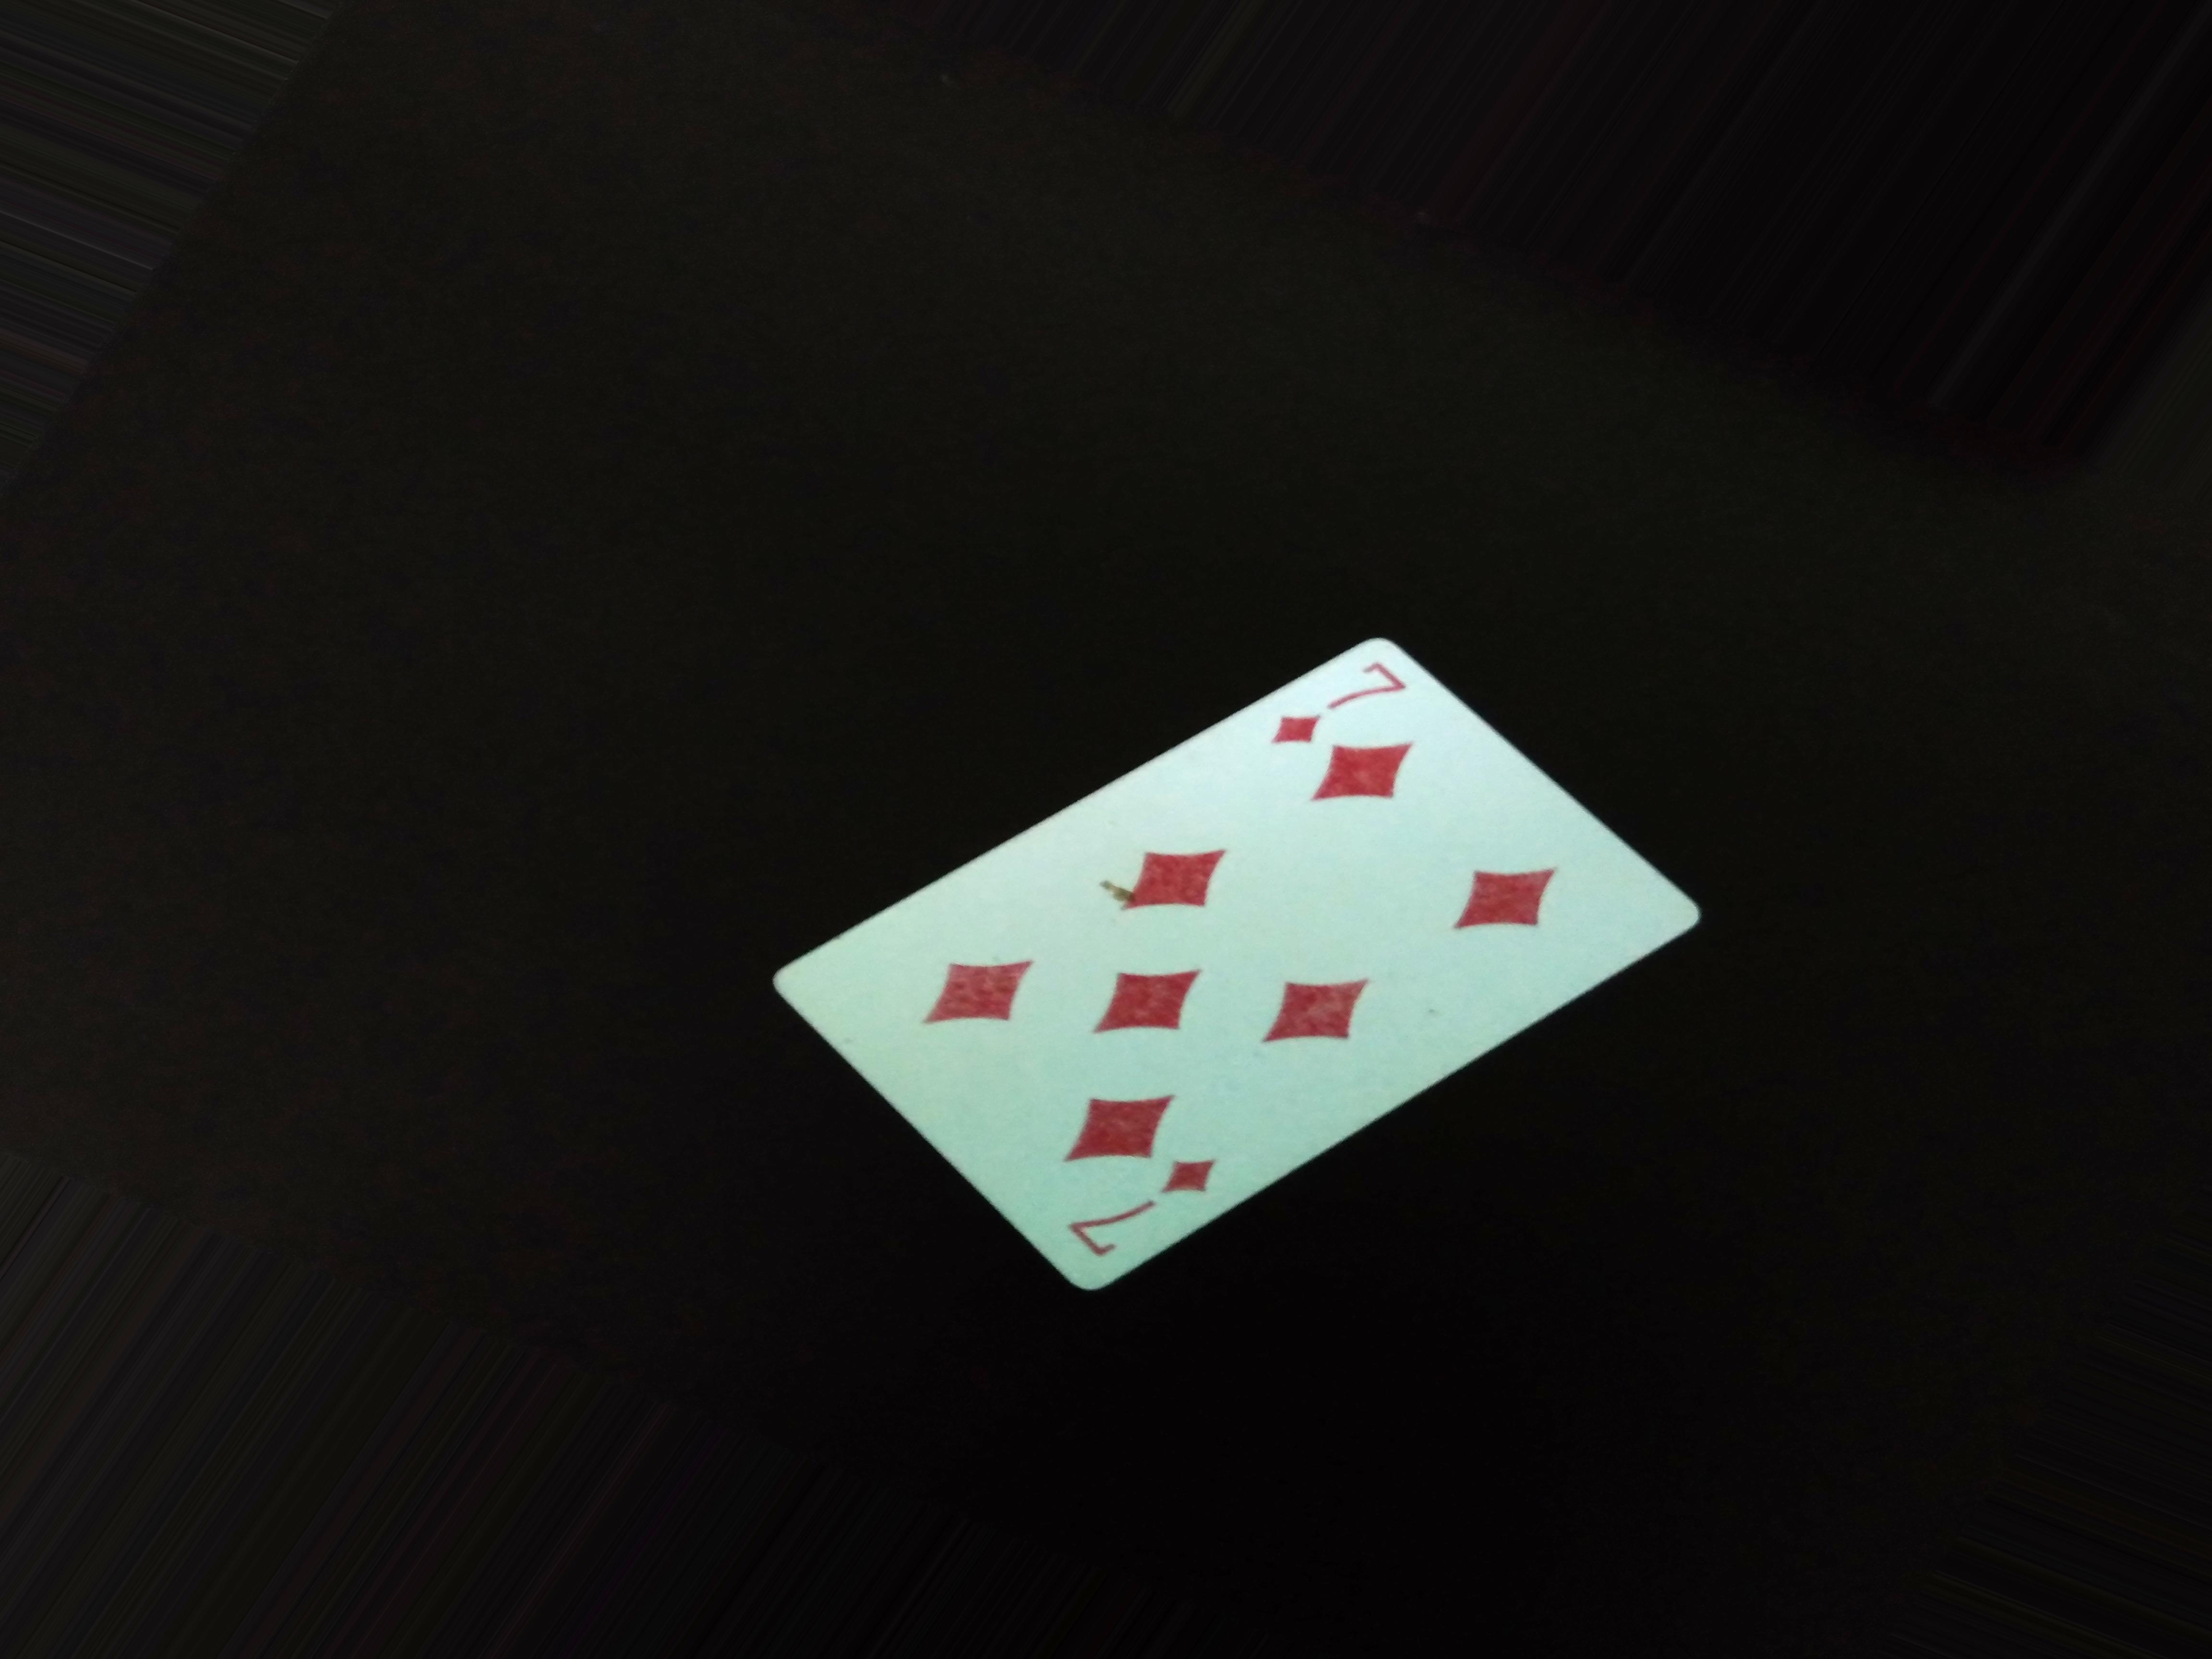7D: (1264, 662, 1409, 755)
